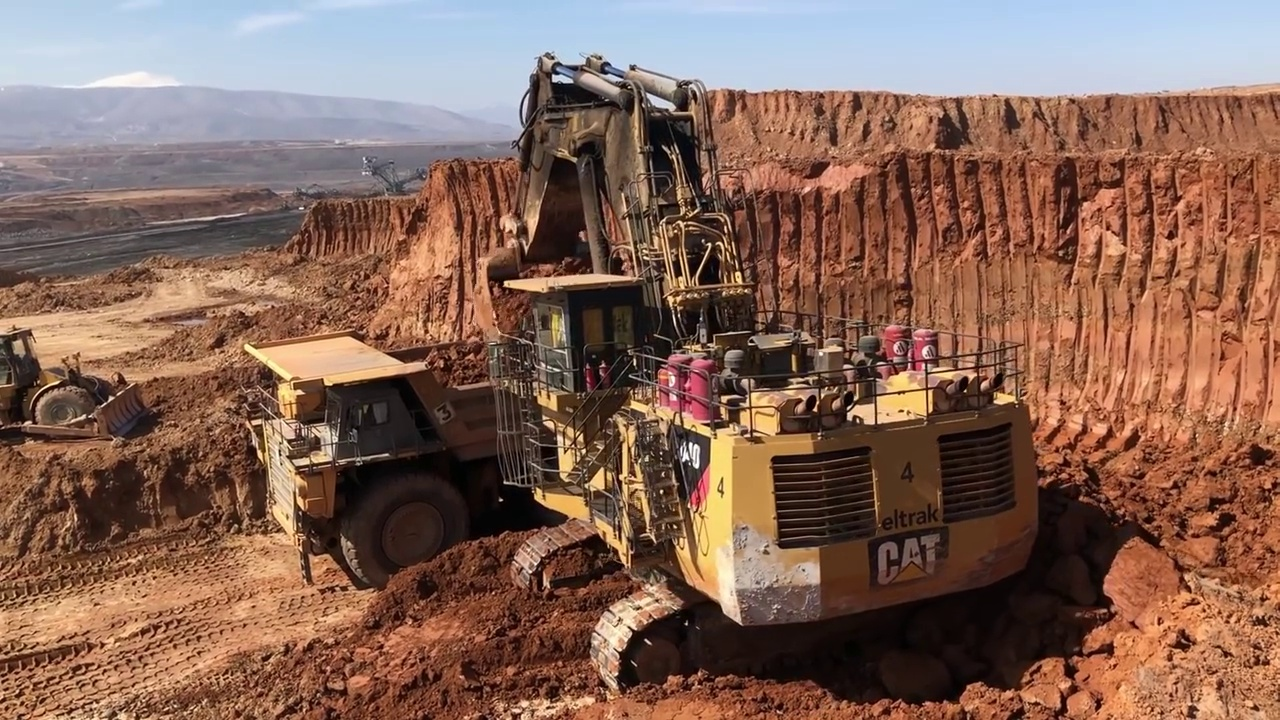dumper: (242, 328, 542, 591), (2, 319, 155, 450)
excavator: (486, 47, 1042, 693)
